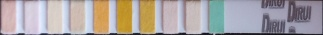color 1: (2, 2, 14, 32)
color 10: (210, 2, 222, 30)
color 2: (25, 2, 37, 32)
color 3: (49, 2, 61, 32)
color 4: (71, 2, 83, 31)
color 5: (95, 2, 107, 32)
color 6: (118, 2, 130, 33)
color 7: (141, 2, 153, 32)
color 8: (164, 3, 176, 31)
color 9: (187, 3, 199, 32)
